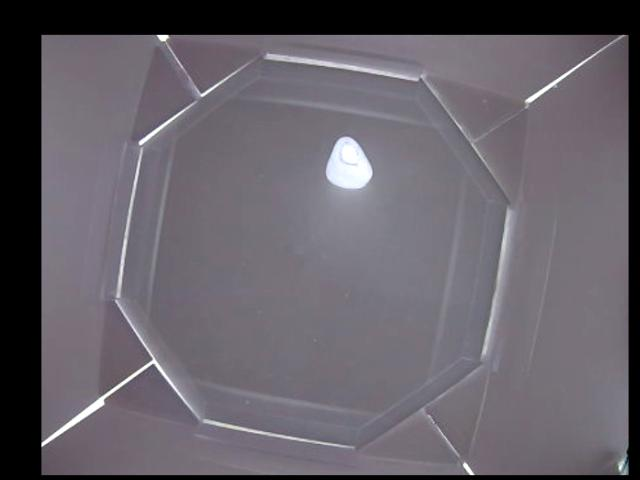Pebble: (327, 132, 376, 190)
